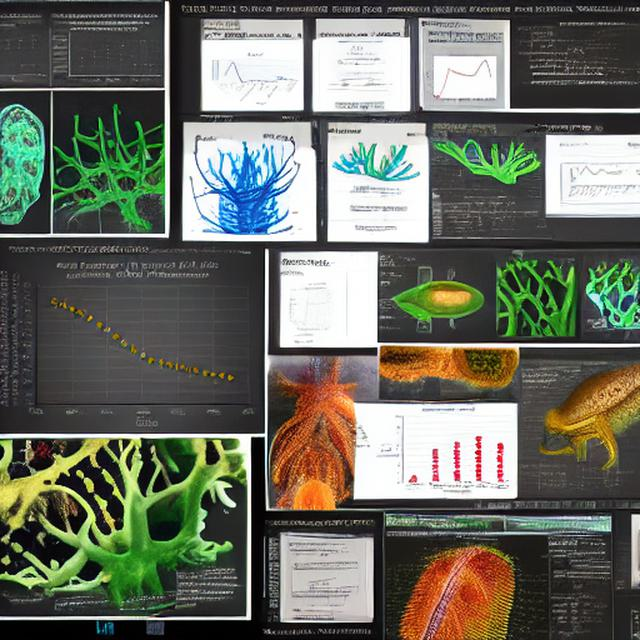Graph: (9, 254, 265, 432), (374, 405, 514, 497), (46, 19, 164, 88), (209, 51, 302, 108), (423, 46, 505, 108), (282, 284, 345, 331), (559, 162, 623, 200)
